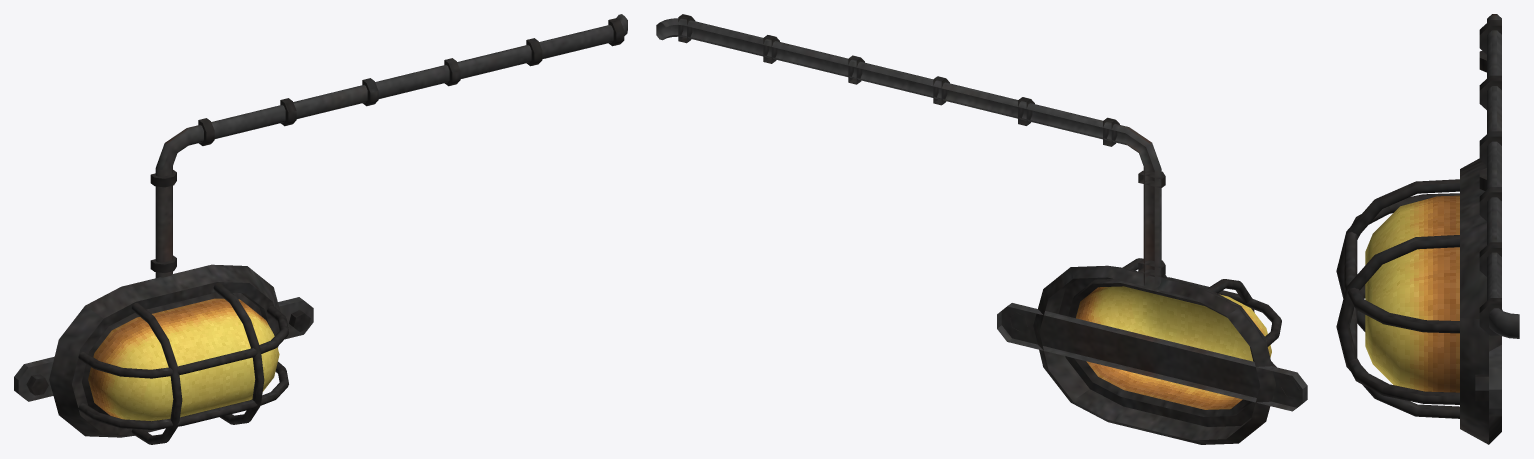
File: lamp_1_on.fbx
The picture shows the model from 3 angles, left to right: view 1: azimuth 30°, elevation 25°; view 2: azimuth 150°, elevation 25°; view 3: azimuth 270°, elevation 25°; orthographic projection. The views are drawn at different scales.
Visible parts, largest first — view 1: lamp_1_on; view 2: lamp_1_on; view 3: lamp_1_on.
Part boxes in pixels (x1,y1,x2,y2): lamp_1_on: [14, 14, 627, 444]; lamp_1_on: [656, 14, 1307, 444]; lamp_1_on: [1336, 14, 1519, 444].
Size of the model in its own units: 0.7532 by 0.1393 by 0.343.
